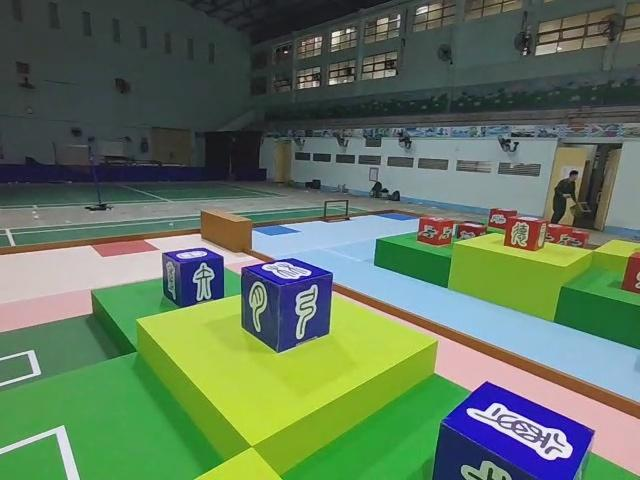R2 Fake Blue: (435, 380, 595, 480), (242, 257, 333, 350), (160, 247, 224, 308)
